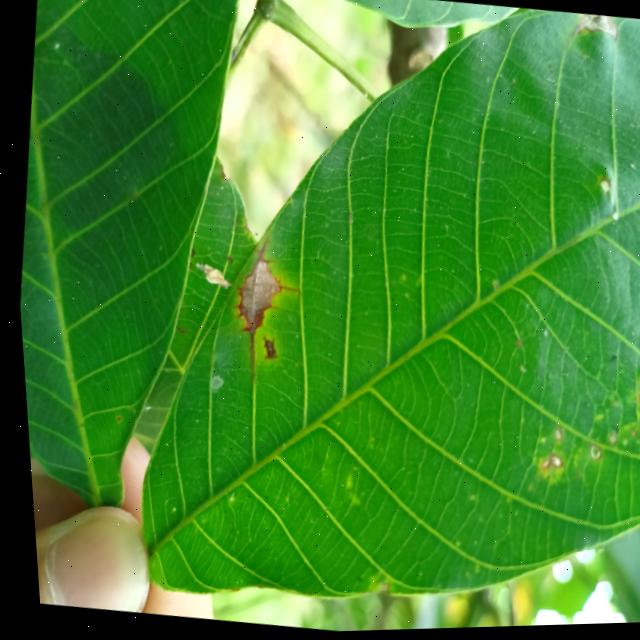Corynespora: (217, 228, 307, 386), (254, 334, 275, 363)
Leaf-Blight: (231, 258, 280, 335)
